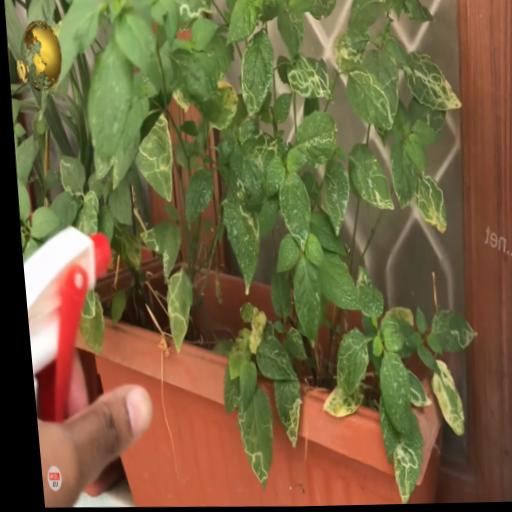Healthy: (23, 206, 58, 240)
Leaf_Miner: (79, 38, 139, 182), (214, 172, 262, 296), (102, 94, 155, 192), (227, 385, 270, 490), (359, 49, 402, 151), (129, 113, 175, 203), (399, 51, 462, 115), (236, 30, 277, 117), (345, 142, 391, 212), (272, 172, 311, 253), (342, 70, 391, 134), (158, 270, 194, 354), (420, 361, 459, 437), (325, 327, 365, 401), (289, 110, 338, 168), (283, 53, 333, 107), (422, 309, 475, 358), (318, 158, 349, 239), (330, 18, 372, 76), (265, 378, 299, 449), (382, 439, 416, 506), (409, 174, 445, 237), (384, 141, 416, 211), (71, 288, 102, 357), (244, 133, 288, 180), (274, 8, 306, 65), (204, 81, 239, 133), (313, 383, 360, 421), (348, 266, 381, 320), (105, 221, 139, 273), (155, 224, 180, 285), (67, 191, 98, 238), (55, 153, 85, 198), (213, 362, 235, 417), (398, 368, 426, 409), (176, 0, 214, 26), (133, 222, 159, 256), (278, 326, 302, 362), (168, 82, 190, 115), (308, 0, 339, 22)
